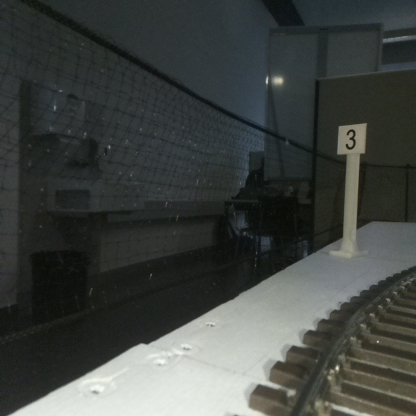white-info-3: (338, 123, 365, 255)
